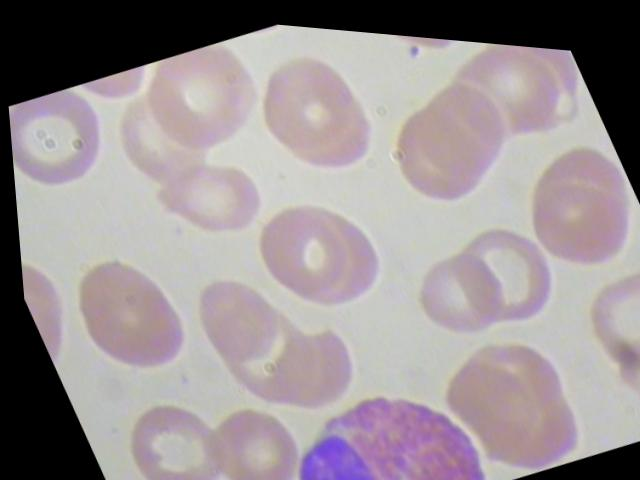Red Blood Cells: (229, 162, 402, 329), (43, 228, 200, 394), (234, 30, 379, 177), (500, 140, 639, 292), (134, 132, 282, 267), (389, 219, 519, 351), (5, 74, 129, 207), (96, 370, 246, 479), (551, 238, 639, 379), (181, 385, 311, 479)
White Blood Cells: (242, 333, 500, 479)
